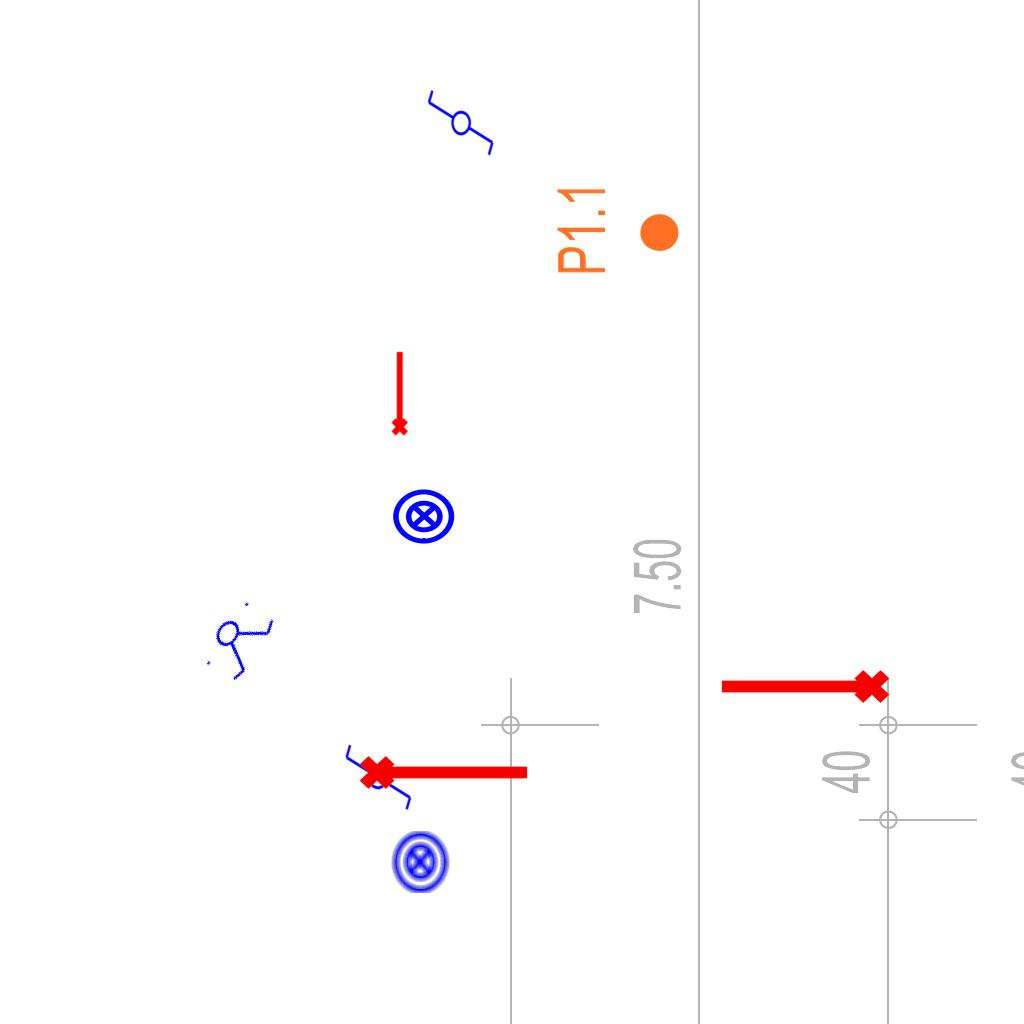ASR_Ansaugoeffnung: (716, 666, 892, 712), (357, 747, 533, 793), (387, 349, 410, 437)
Downlight_LED_Einbauleuchten_Flur: (554, 183, 682, 276)
Serienschalter: (195, 591, 283, 689)
Taster_beleuchtet: (387, 829, 453, 895), (391, 483, 457, 549)
Wechselschalter: (343, 734, 415, 812), (424, 88, 496, 166)
